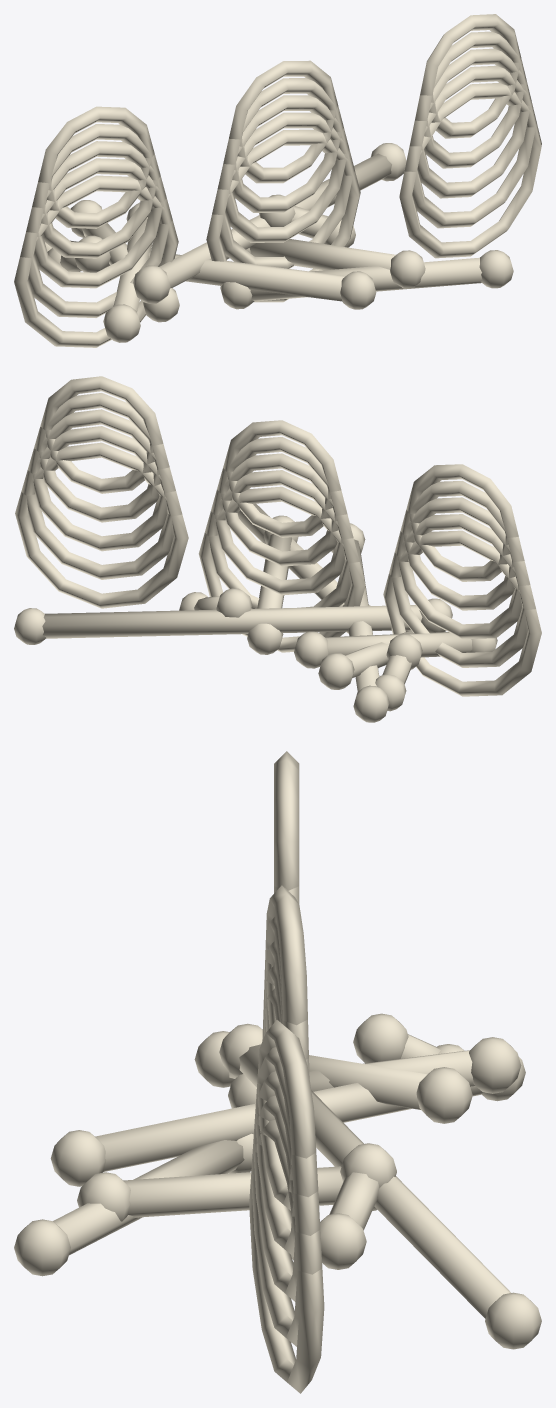
The model's file is bone_heap_ribcage_heap.glb.
3 views of the same model, one above another, from view 1: azimuth 30°, elevation 25°; view 2: azimuth 150°, elevation 25°; view 3: azimuth 270°, elevation 25° (orthographic). The views are drawn at different scales.
Parts seen in each view (by area): view 1: GD_bone_heap_ribcage_heap__m0; view 2: GD_bone_heap_ribcage_heap__m0; view 3: GD_bone_heap_ribcage_heap__m0.
Boxes of the visible parts, x1,y1,x2,y2 form: GD_bone_heap_ribcage_heap__m0: (14,14,541,347); GD_bone_heap_ribcage_heap__m0: (14,376,541,722); GD_bone_heap_ribcage_heap__m0: (14,751,541,1393).
Size of the model in its own units: 0.7178 by 0.308 by 0.4162.
